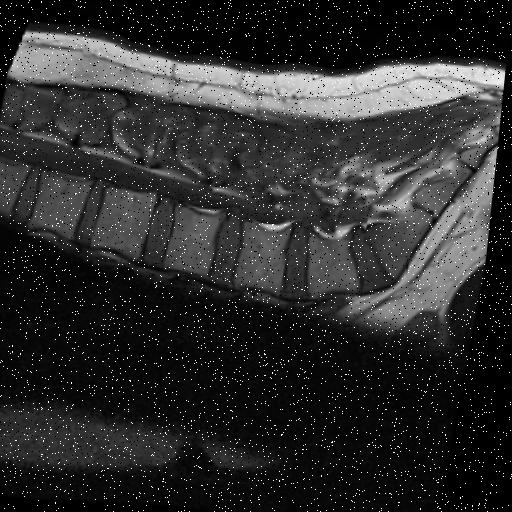L1: (33, 170, 96, 238)
L2: (96, 187, 161, 259)
L3: (172, 205, 223, 273)
L4: (241, 220, 297, 293)
L5: (316, 233, 365, 295)
S1: (370, 206, 437, 275)
